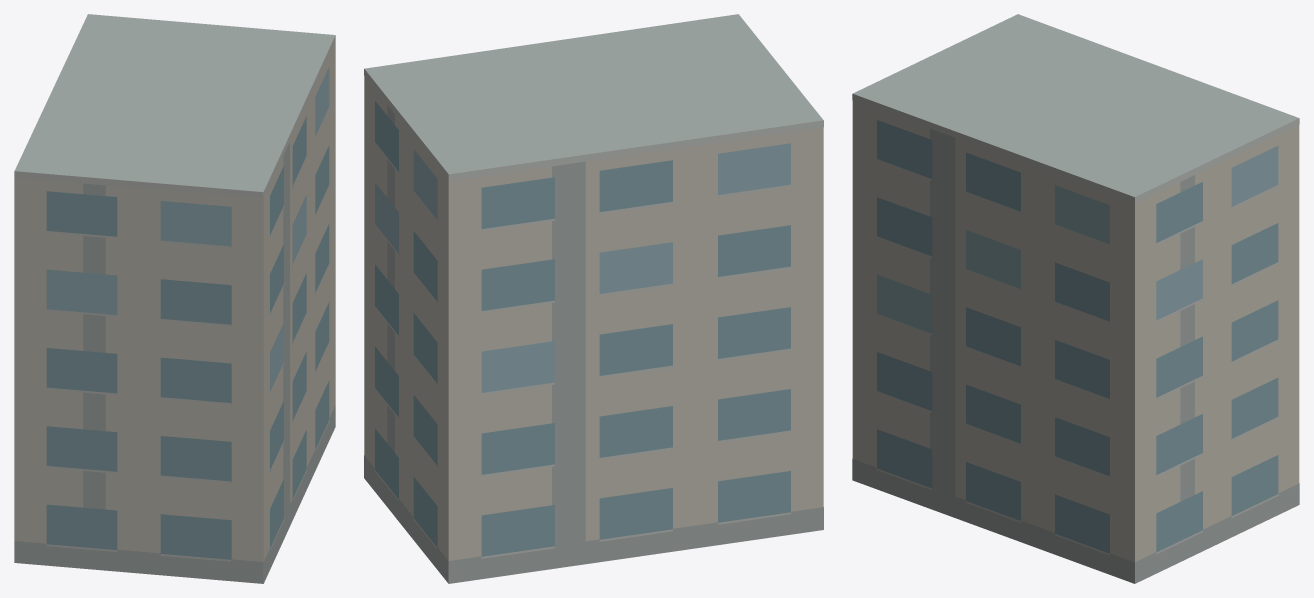
File: survey-upis-32885611.glb
The picture shows the model from 3 angles, left to right: view 1: azimuth 30°, elevation 25°; view 2: azimuth 150°, elevation 25°; view 3: azimuth 270°, elevation 25°; orthographic projection. The views are drawn at different scales.
Parts seen in each view (by area): view 1: survey-upis-32885611.tmp; view 2: survey-upis-32885611.tmp; view 3: survey-upis-32885611.tmp.
Boxes of the visible parts, <box> form: survey-upis-32885611.tmp: <box>14,14,335,583</box>; survey-upis-32885611.tmp: <box>364,14,823,583</box>; survey-upis-32885611.tmp: <box>852,14,1299,583</box>.
Size of the model in its own units: 14.64 by 14.4 by 15.09.
